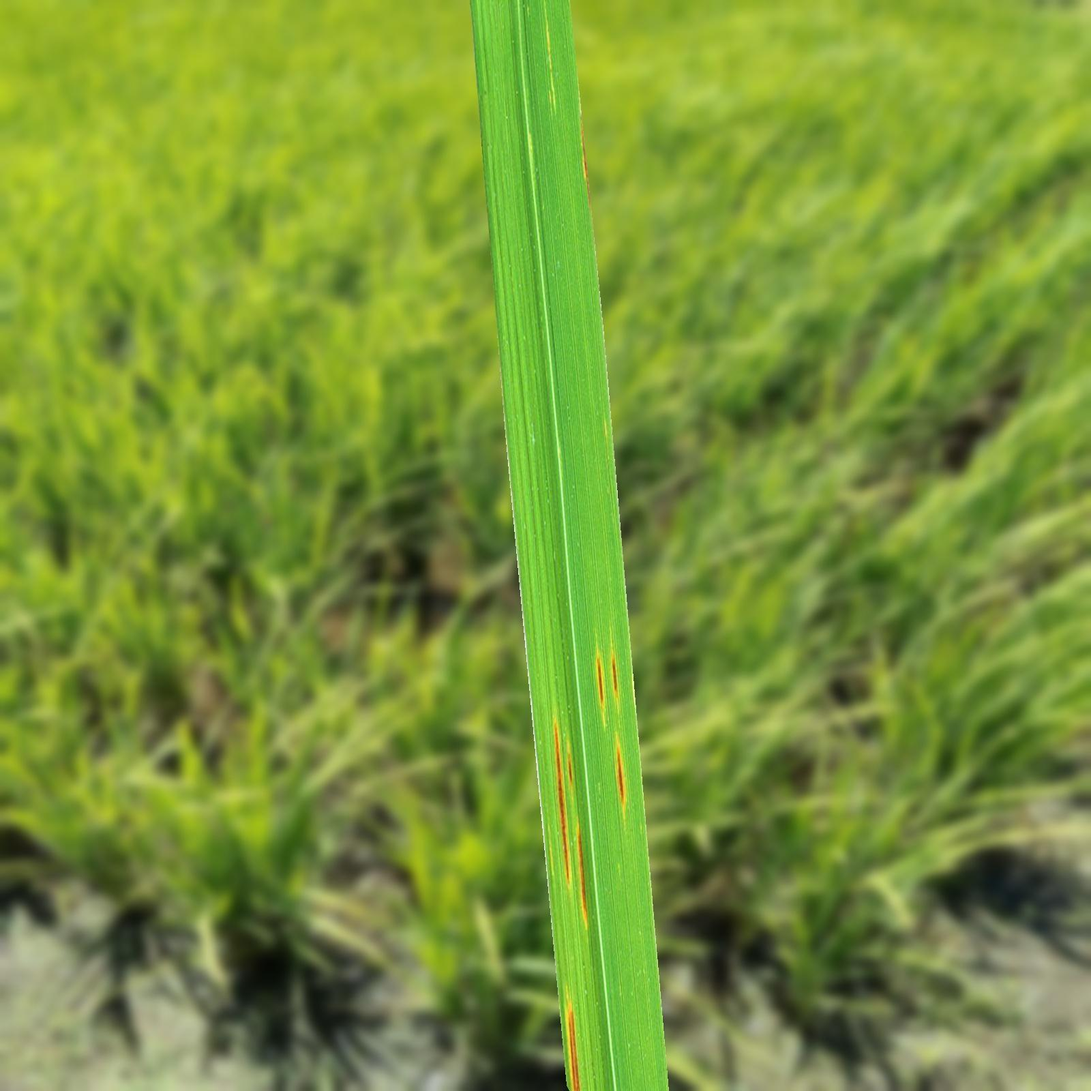LEAF: (470, 0, 668, 1090)
NBS: (554, 718, 571, 886), (577, 822, 588, 926), (567, 1004, 580, 1090), (614, 736, 625, 814), (596, 653, 604, 717), (611, 653, 618, 698), (568, 744, 573, 783)
